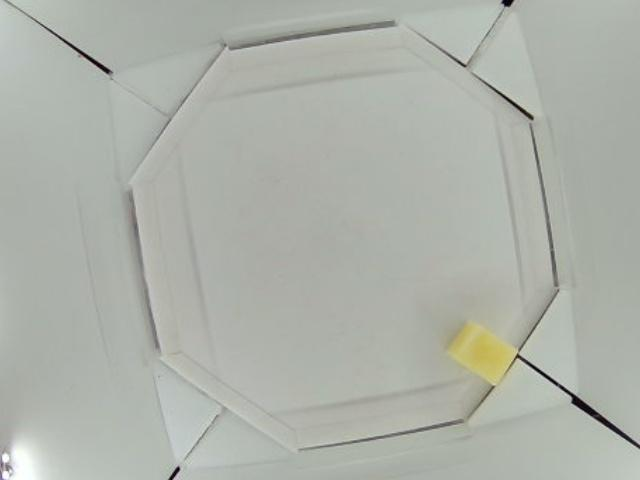Potato: (450, 320, 516, 381)
